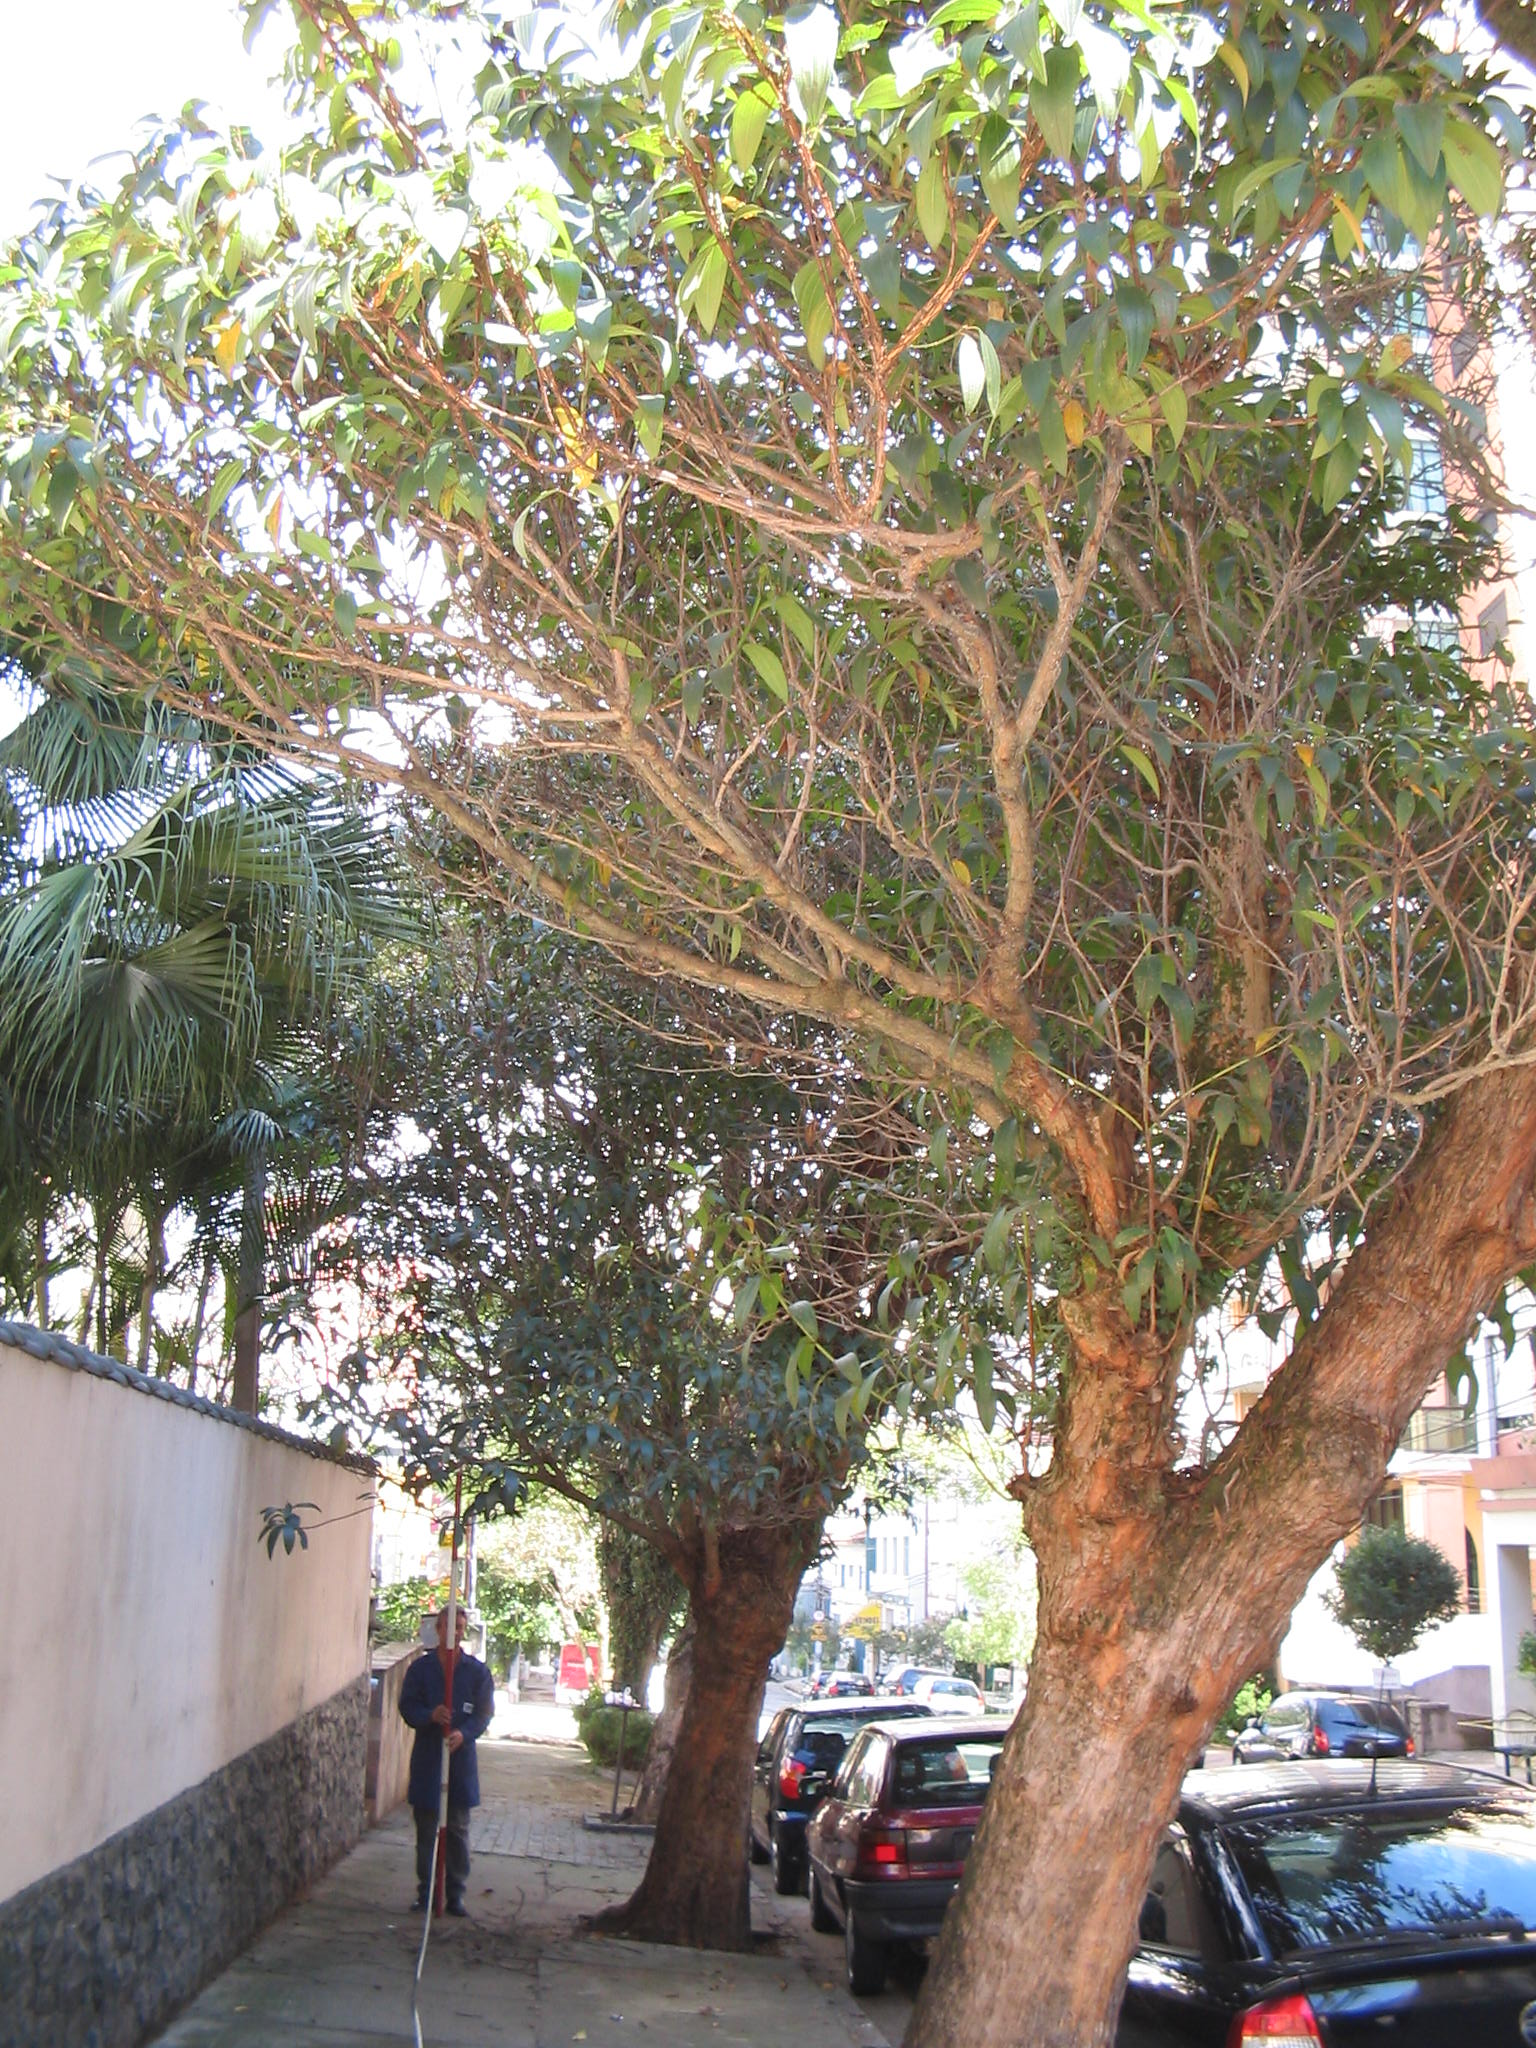stem: (862, 1511, 1334, 2042), (595, 1603, 808, 1953)
stick: (416, 1471, 481, 1916)
